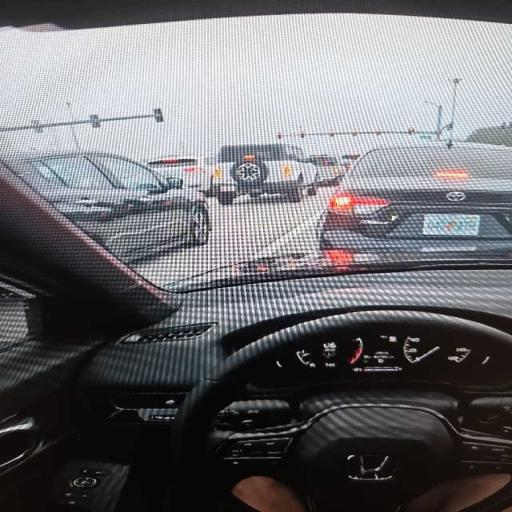car: (0, 0, 511, 511), (10, 153, 210, 259), (319, 147, 511, 255), (212, 144, 318, 204), (146, 157, 210, 192), (309, 155, 351, 185)
lane: (133, 188, 332, 284)
person: (400, 474, 511, 511)
